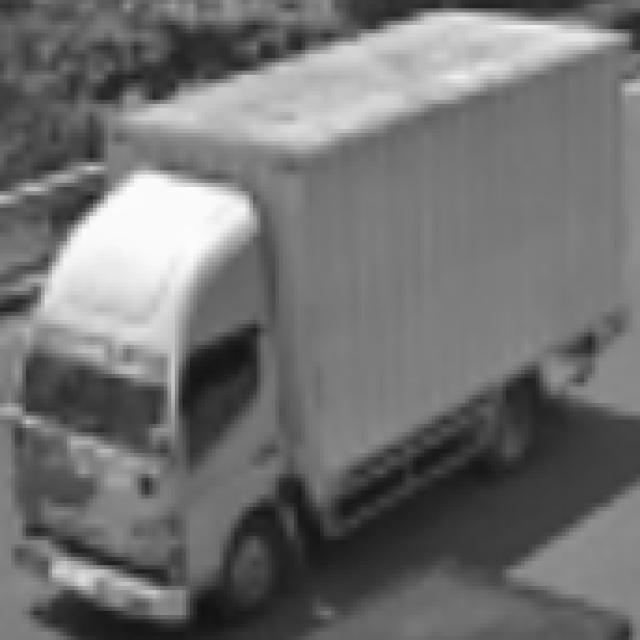truck: (5, 169, 319, 630)
